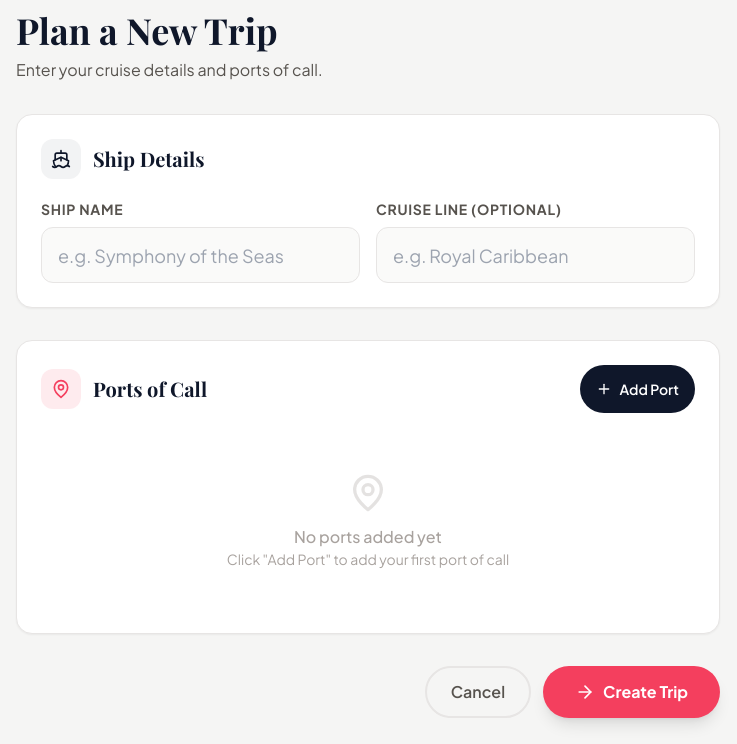
TripSetup — ship name autocomplete › selecting a suggestion sets the ship name value
This screenshot has width=737, height=744.
Type "Symphony" into the field with test id "ship-name-input". click: (200, 255)
box: [41,227,360,283]
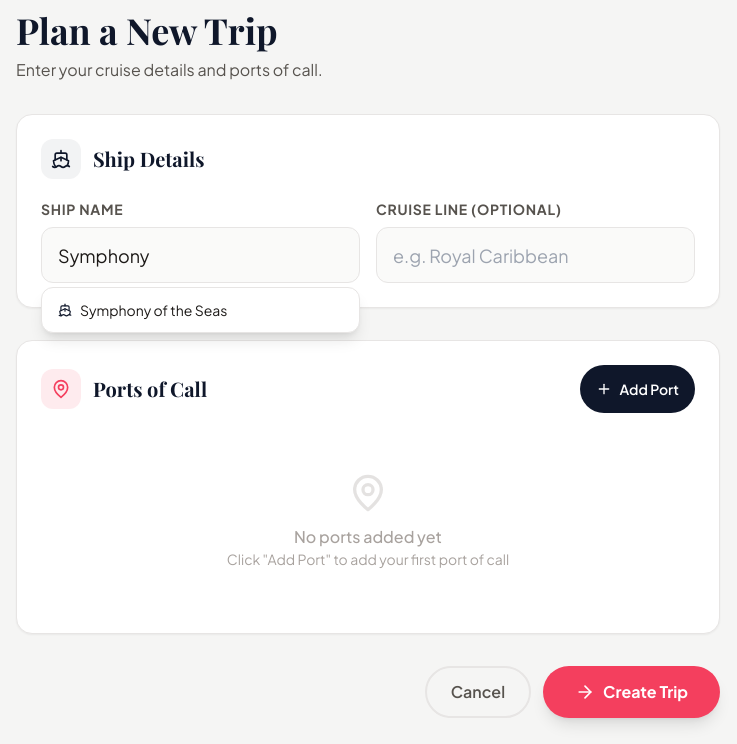
Expected: the button "Symphony of the Seas" is shown
Press the mouse on the button "Symphony of the Seas" at (200, 310), box [42,288,359,332]
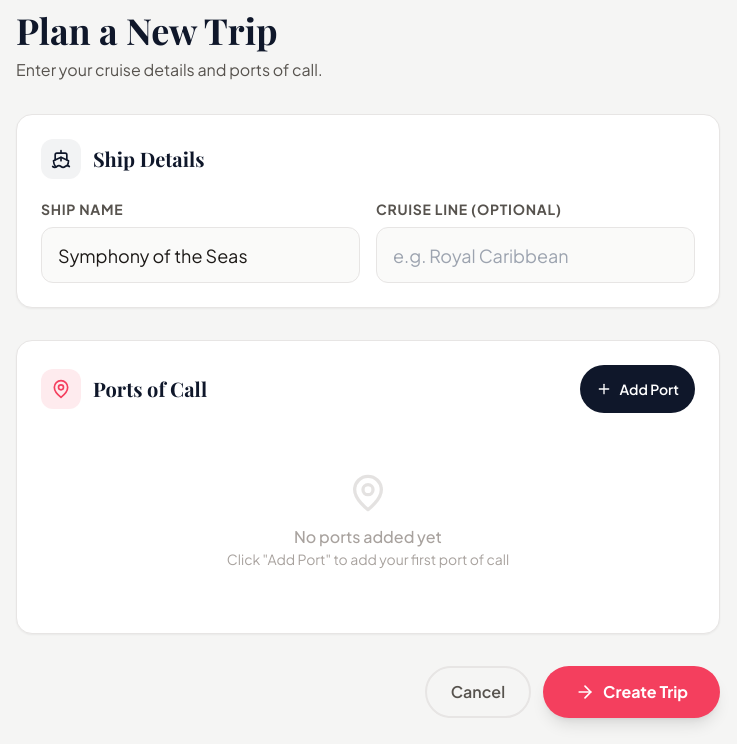
Expected: the field with test id "ship-name-input" holds "Symphony of the Seas", [41,227,360,283]
